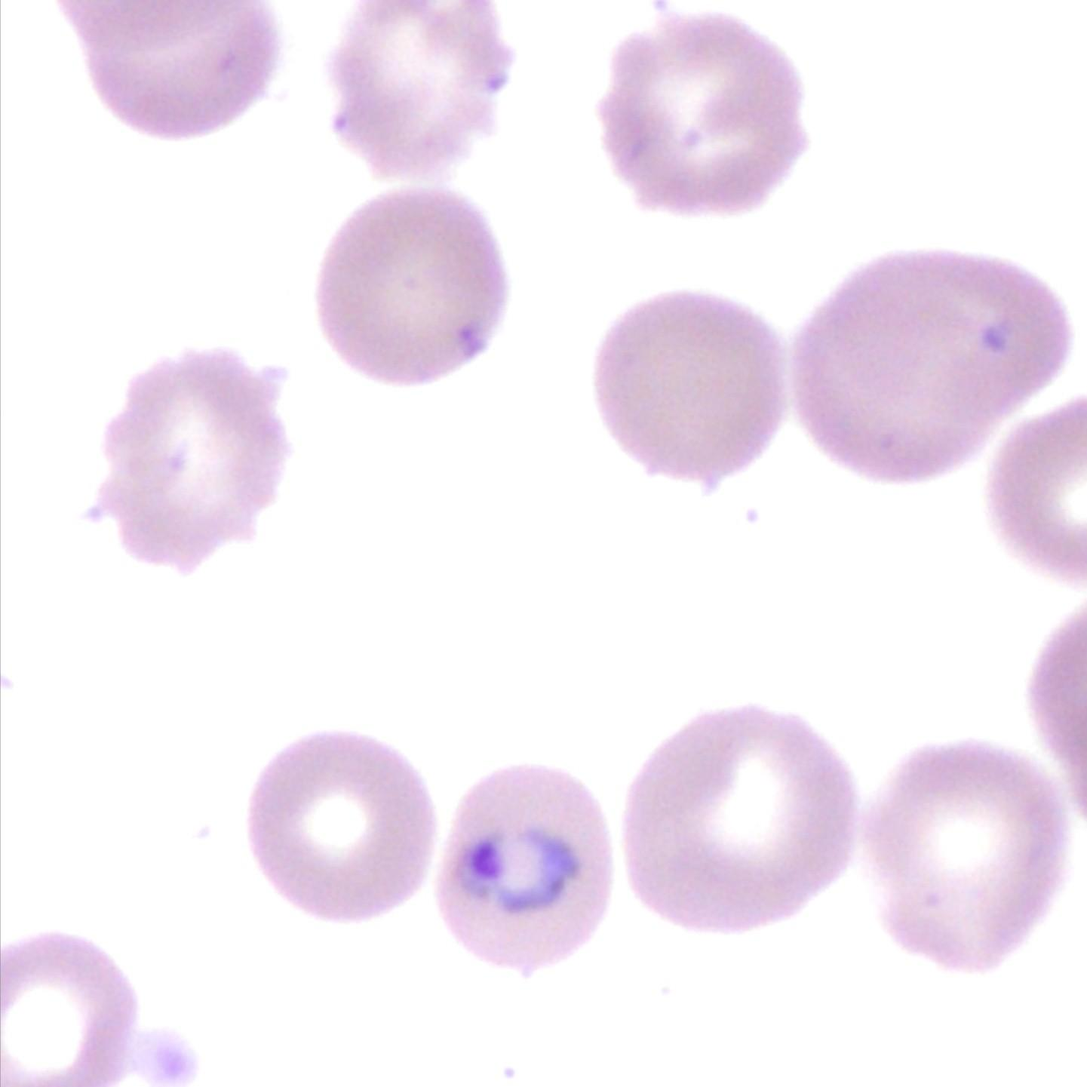Infected: (438, 764, 611, 973)
Uninfected: (792, 249, 1074, 486), (624, 704, 866, 931), (98, 344, 296, 572), (867, 748, 1061, 970), (596, 17, 810, 218), (315, 191, 508, 390), (594, 295, 791, 483), (245, 730, 436, 920), (324, 0, 516, 182), (81, 0, 279, 142), (0, 930, 139, 1087)
